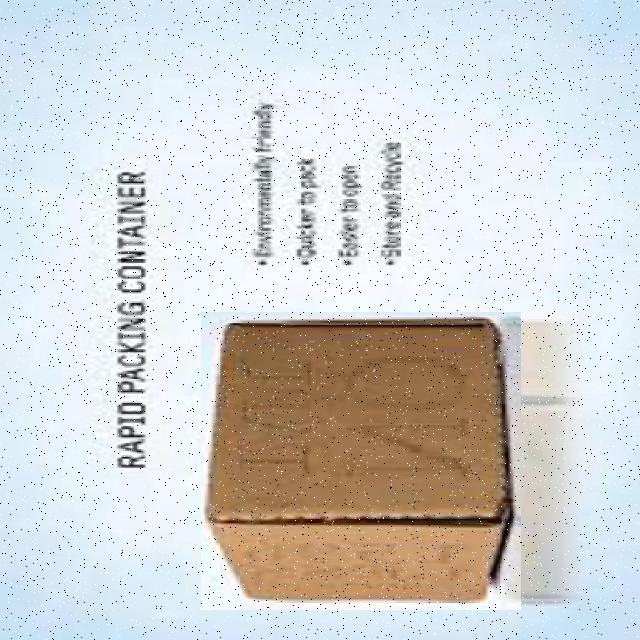normal: (202, 312, 522, 610)
